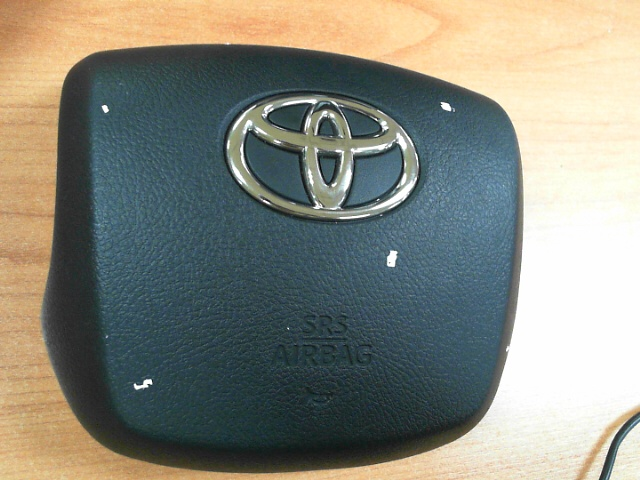Airbag: (132, 379, 154, 391), (386, 249, 398, 268), (439, 101, 456, 113), (101, 104, 110, 114)
